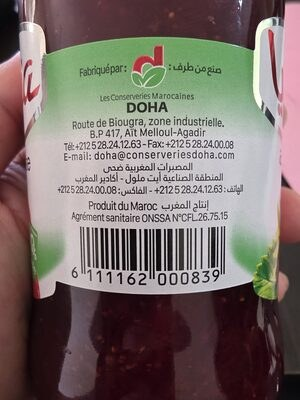Confiture de fraise: (15, 20, 285, 380)
